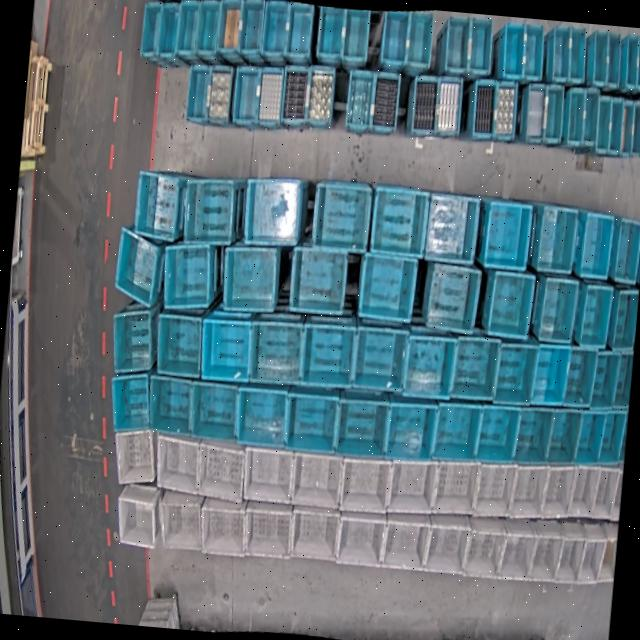Box: (217, 240, 280, 314), (308, 180, 371, 251), (356, 252, 418, 324), (240, 175, 302, 246), (110, 222, 161, 308), (368, 185, 428, 258), (180, 174, 237, 250), (422, 258, 479, 334), (286, 243, 346, 314), (157, 238, 215, 310), (129, 168, 184, 242), (150, 306, 204, 381), (246, 316, 304, 385), (350, 325, 410, 391), (297, 320, 356, 386), (333, 391, 389, 460), (423, 192, 478, 262), (196, 315, 253, 382), (403, 330, 455, 400), (282, 390, 338, 454), (483, 268, 534, 338), (142, 370, 196, 436), (482, 198, 531, 270), (382, 396, 437, 460), (150, 427, 204, 492), (106, 304, 156, 374), (194, 434, 245, 502), (234, 384, 288, 448), (187, 377, 241, 441), (448, 334, 498, 402), (104, 366, 154, 433), (195, 495, 249, 557), (153, 489, 204, 554), (240, 442, 295, 502), (338, 454, 392, 514), (240, 498, 292, 560), (431, 400, 481, 464), (290, 450, 342, 510), (491, 338, 538, 404), (108, 424, 158, 486), (286, 506, 339, 564), (379, 510, 428, 572), (388, 454, 437, 514), (462, 514, 506, 580), (423, 514, 470, 575), (534, 202, 576, 270), (114, 482, 158, 546), (335, 514, 385, 570), (431, 458, 478, 517), (536, 276, 576, 343), (530, 340, 570, 404), (575, 281, 612, 348), (475, 406, 518, 462), (576, 211, 612, 277), (471, 460, 515, 514), (507, 462, 549, 518), (512, 406, 552, 464), (499, 518, 535, 580), (528, 518, 563, 580), (610, 214, 640, 283), (546, 408, 581, 466), (540, 462, 576, 518), (556, 521, 588, 584), (230, 60, 260, 126), (576, 522, 607, 584), (304, 64, 334, 128), (204, 64, 233, 130), (563, 348, 596, 406), (573, 410, 606, 468), (408, 76, 439, 136), (369, 69, 398, 133), (254, 65, 284, 126), (433, 74, 463, 134), (343, 68, 372, 130), (589, 350, 620, 408), (470, 78, 498, 141), (404, 7, 434, 65), (184, 60, 212, 122), (610, 288, 637, 352), (283, 0, 313, 57), (278, 64, 306, 124), (588, 464, 618, 520), (567, 466, 599, 518), (442, 16, 472, 71), (379, 10, 408, 66), (492, 79, 518, 141), (539, 80, 564, 144), (500, 21, 528, 77), (340, 8, 370, 60), (520, 82, 546, 142), (260, 0, 288, 55), (466, 16, 493, 72), (598, 408, 625, 464), (520, 22, 546, 78), (315, 4, 343, 56), (237, 0, 264, 52), (215, 0, 242, 51), (564, 24, 588, 81), (548, 24, 572, 81), (136, 0, 160, 56), (578, 84, 599, 148), (194, 0, 219, 53), (156, 1, 180, 56), (596, 520, 616, 582), (592, 94, 612, 154), (589, 29, 610, 86), (174, 0, 197, 52), (602, 27, 622, 86), (564, 85, 584, 144), (612, 350, 632, 407), (621, 31, 640, 87), (606, 94, 622, 156), (616, 96, 632, 157), (626, 102, 640, 155), (632, 33, 640, 89), (636, 92, 640, 153)
